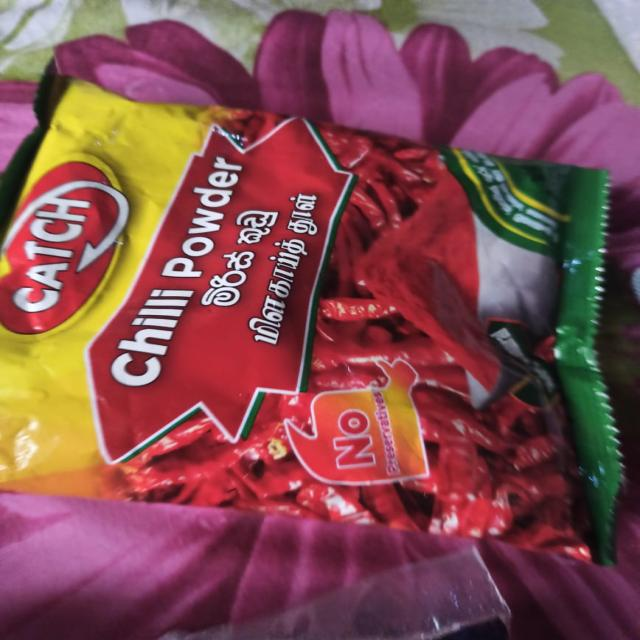Chilli Powder: (0, 71, 639, 581)
